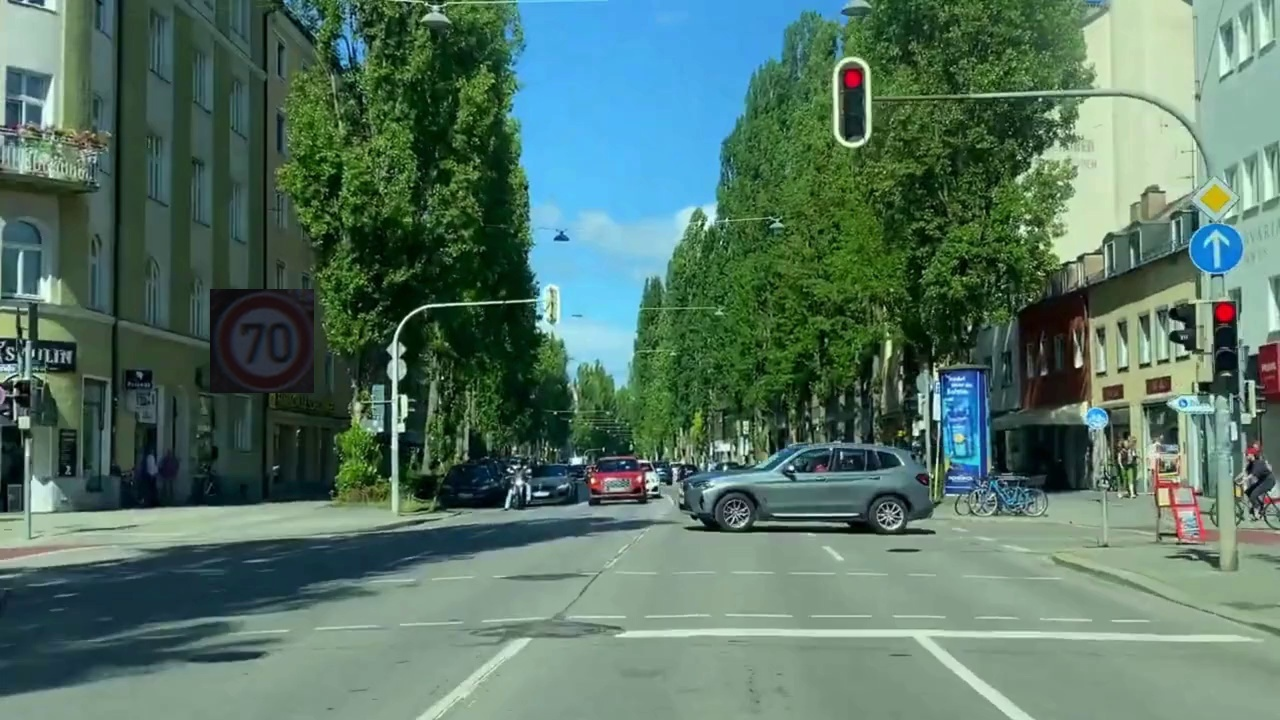Speed 70: (210, 289, 314, 393)
